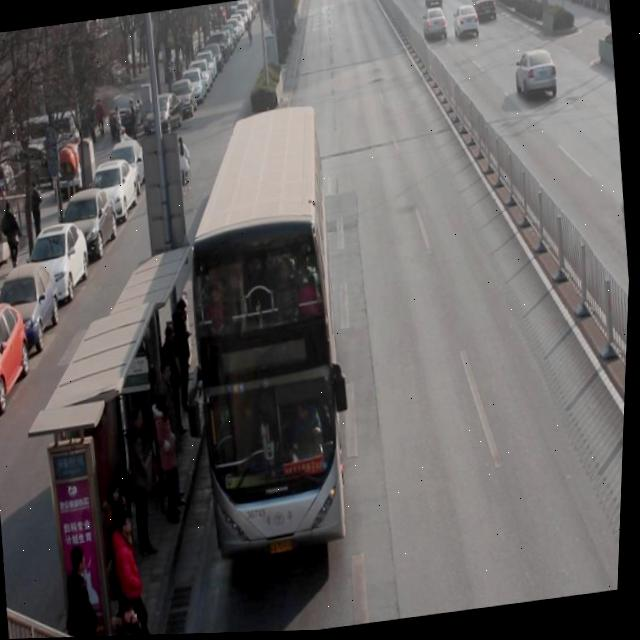car: (514, 47, 562, 106), (451, 3, 483, 44), (421, 7, 451, 47), (470, 0, 500, 26), (409, 0, 428, 0)
truck: (421, 0, 445, 9)
van: (169, 113, 363, 565)
